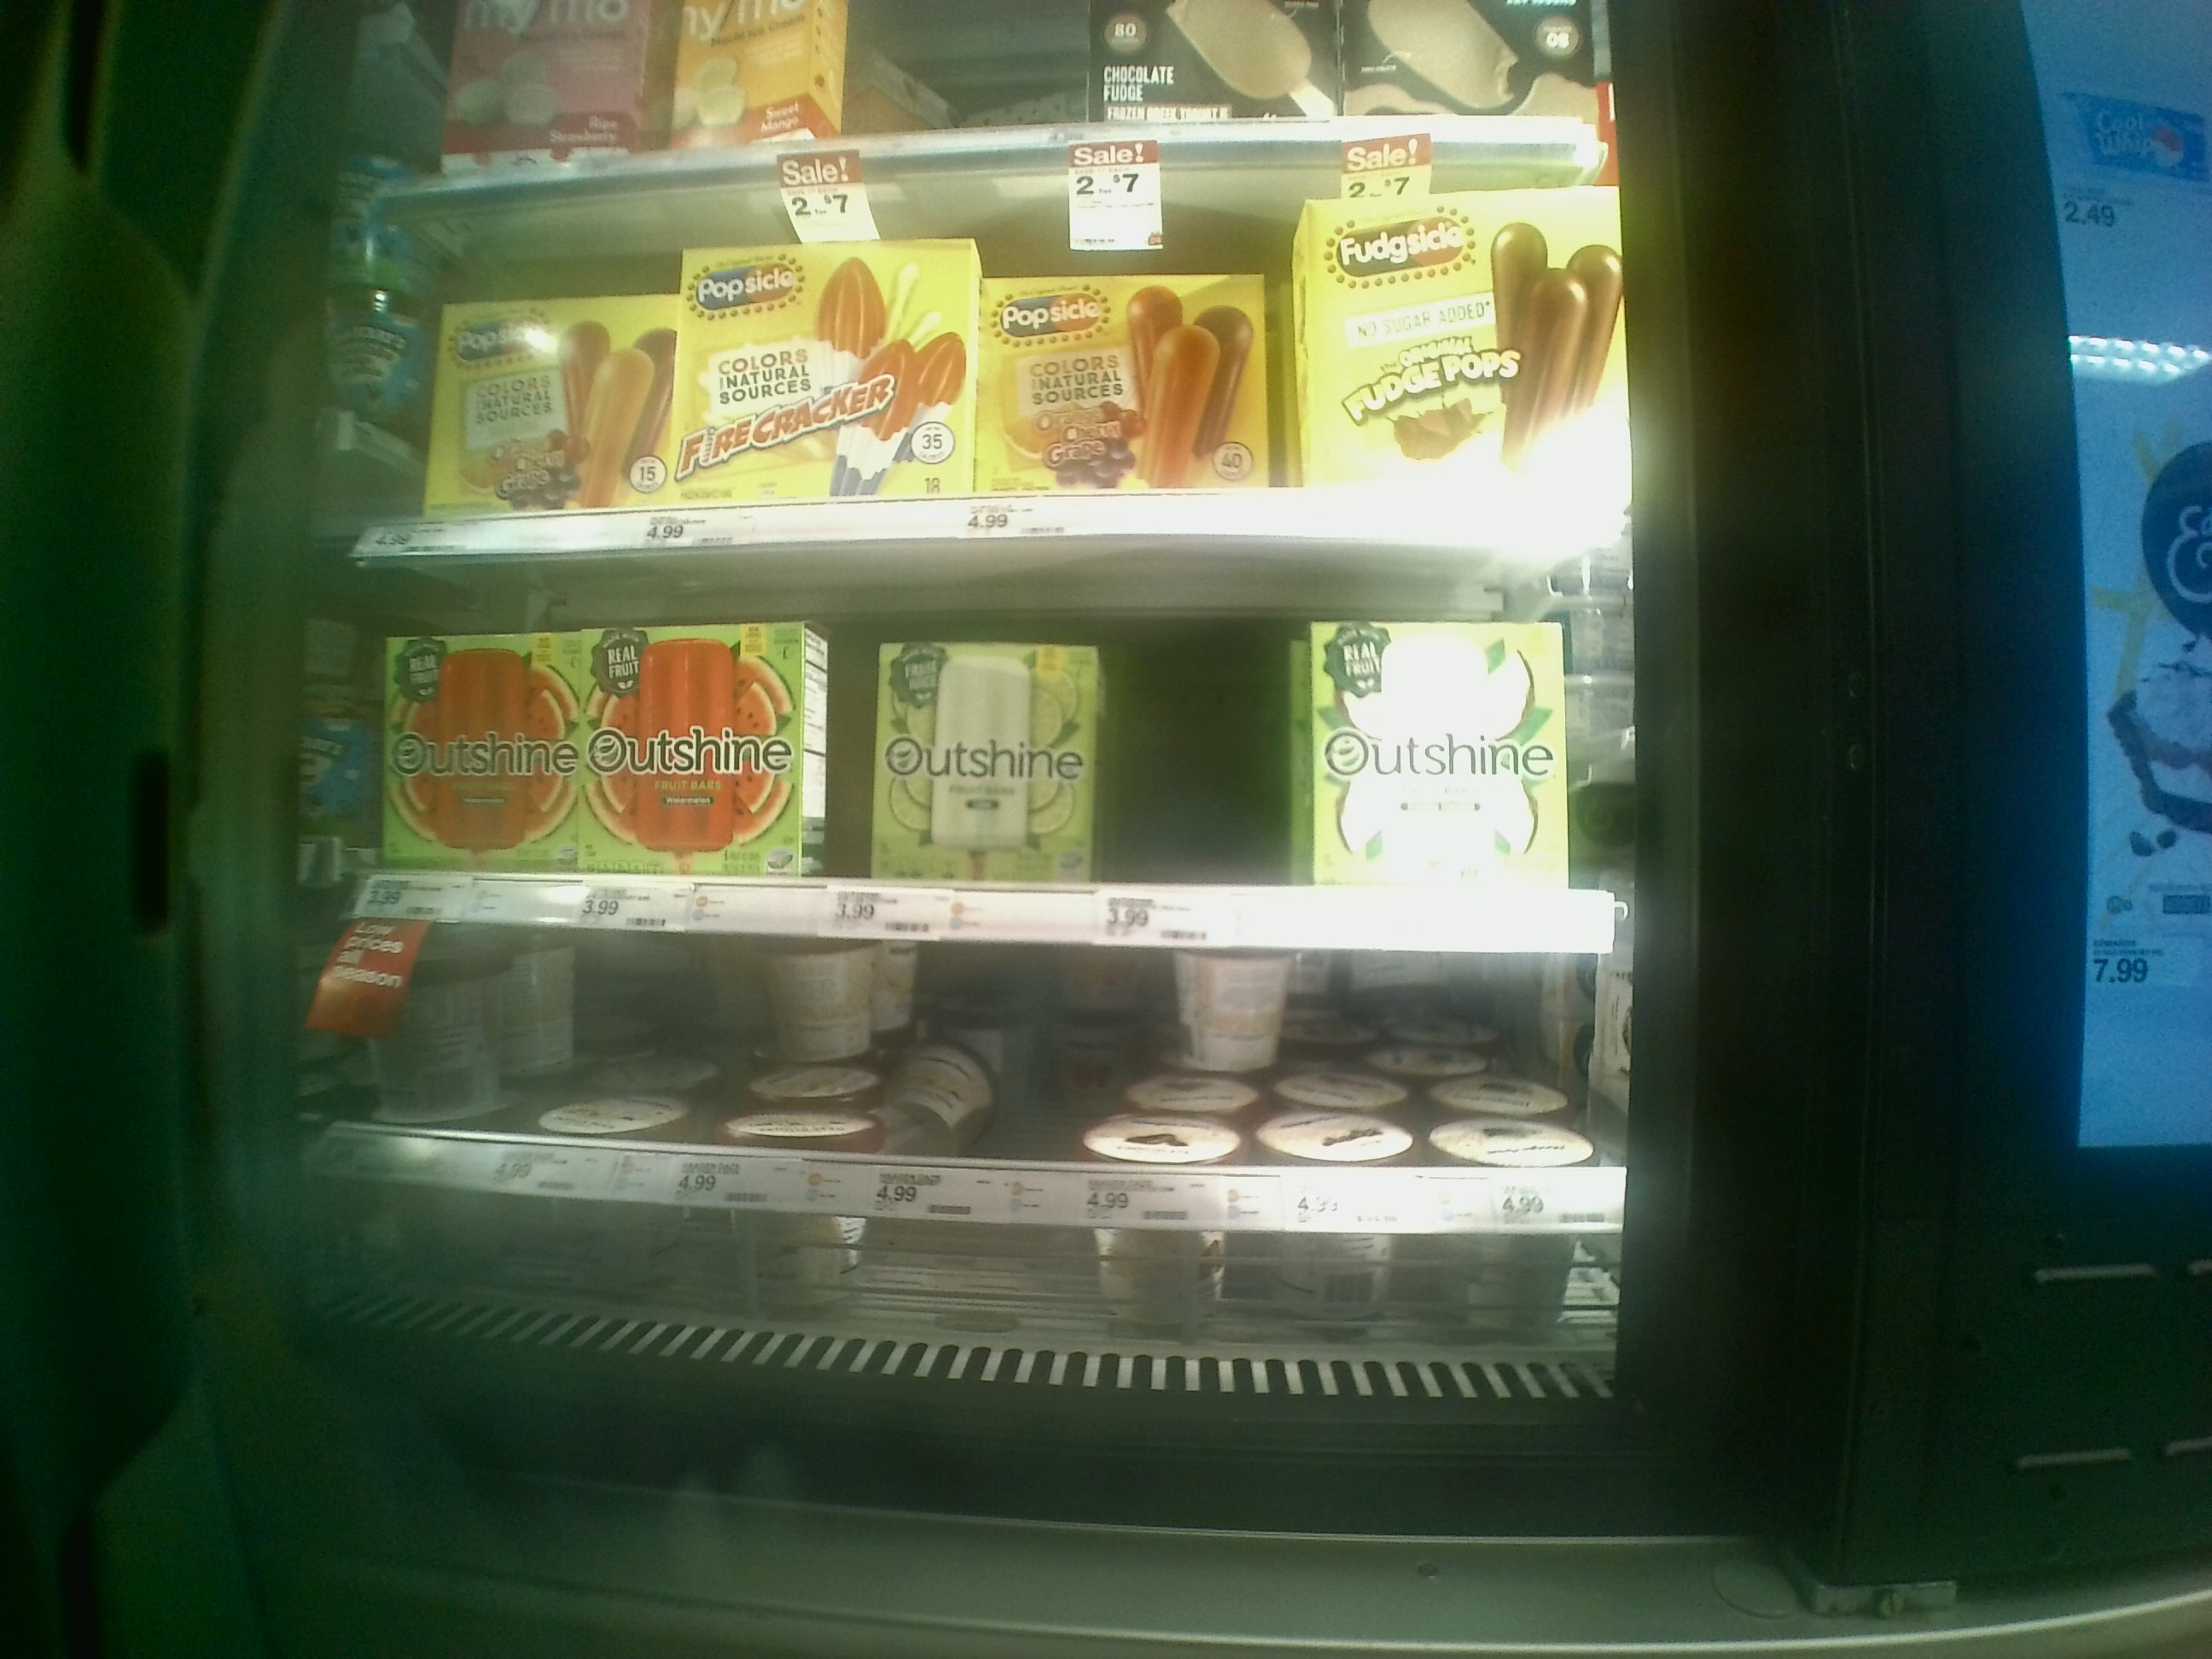ice-cream-shelf: (366, 542, 1635, 945), (380, 181, 1630, 545), (343, 918, 1618, 1208)
